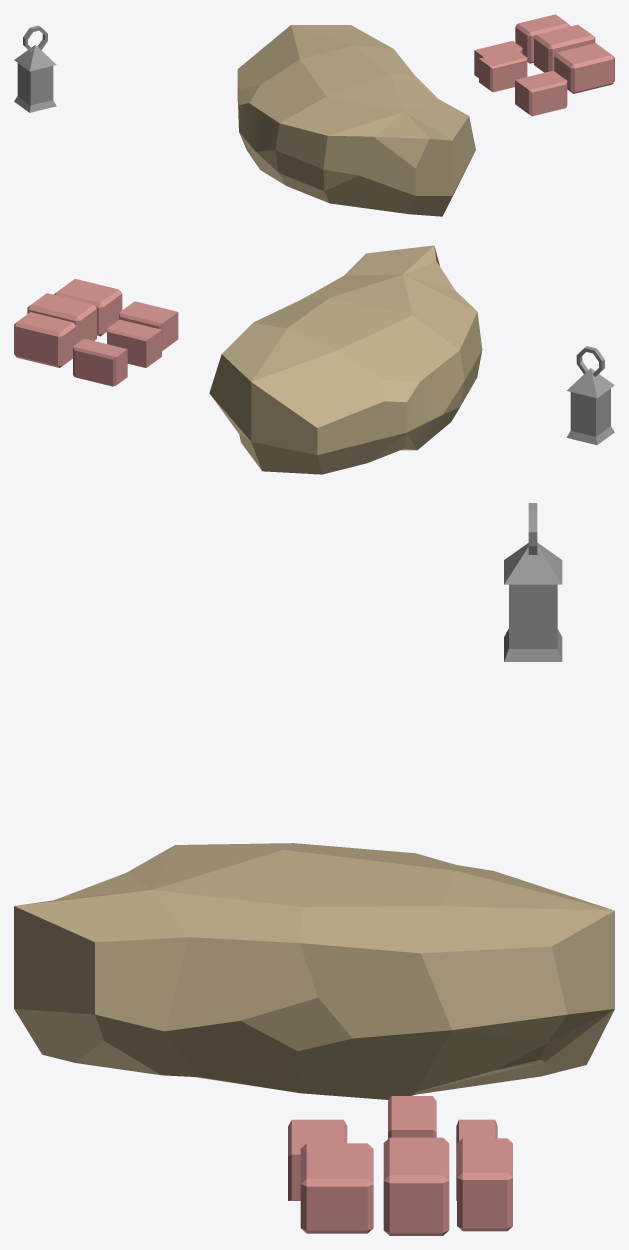
Rendered from CavePk1.fbx.
3 views of the same model, one above another, from view 1: azimuth 30°, elevation 25°; view 2: azimuth 150°, elevation 25°; view 3: azimuth 270°, elevation 25° (orthographic). The views are drawn at different scales.
Parts seen in each view (by area): view 1: LargeRock_4, BrickBig_1, Latern, BrickSmall_3, BrickBig_3, BrickSmall_1, BrickBig_2, BrickSmall_2, Handle; view 2: LargeRock_4, BrickBig_2, Latern, BrickSmall_2, BrickSmall_1, BrickBig_3, BrickBig_1, BrickSmall_3, Handle; view 3: LargeRock_4, BrickBig_1, BrickBig_3, Latern, BrickBig_2, BrickSmall_3, BrickSmall_1.
Part boxes in pixels (x1,y1,x2,y2): LargeRock_4: (237, 25, 475, 216); BrickBig_1: (554, 43, 614, 93); Latern: (14, 45, 56, 112); BrickSmall_3: (515, 70, 567, 116); BrickBig_3: (534, 24, 595, 72); BrickSmall_1: (479, 49, 527, 92); BrickBig_2: (515, 14, 570, 63); BrickSmall_2: (474, 41, 522, 77); Handle: (23, 25, 47, 52); LargeRock_4: (209, 245, 482, 474); BrickBig_2: (14, 312, 76, 367); Latern: (566, 368, 614, 444); BrickSmall_2: (73, 338, 127, 386); BrickSmall_1: (107, 319, 161, 367); BrickBig_3: (27, 293, 96, 343); BrickBig_1: (54, 279, 122, 336); BrickSmall_3: (119, 301, 178, 350); Handle: (576, 346, 604, 376); LargeRock_4: (14, 843, 614, 1099); BrickBig_1: (300, 1143, 373, 1233); BrickBig_3: (383, 1137, 449, 1235); Latern: (504, 542, 562, 661); BrickBig_2: (457, 1138, 512, 1231); BrickSmall_3: (288, 1119, 347, 1200); BrickSmall_1: (388, 1096, 436, 1138).
Size of the model in its own units: 4.73 by 1.44 by 2.47.
